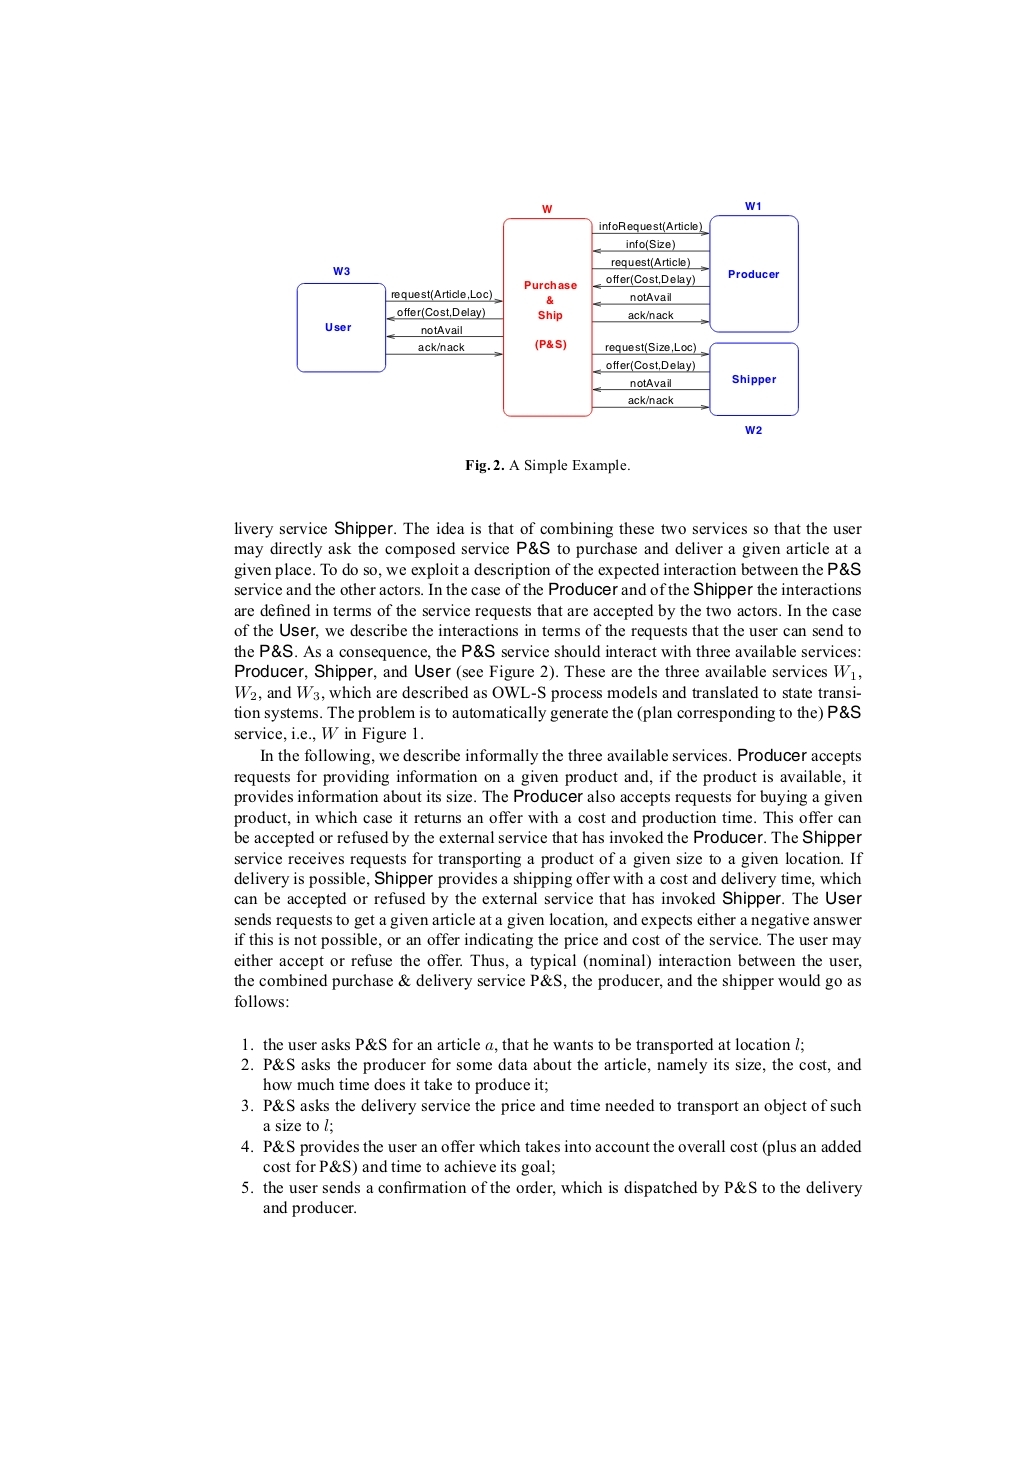figure: (296, 202, 798, 433)
